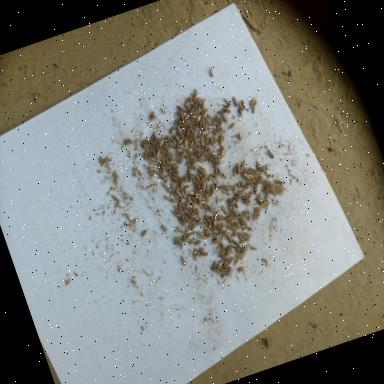pbw: (213, 223, 225, 234), (223, 220, 234, 232), (176, 214, 186, 227), (261, 191, 272, 202), (169, 172, 179, 184), (185, 160, 195, 172), (198, 176, 208, 188), (216, 148, 226, 160), (189, 214, 201, 224), (194, 190, 204, 202), (184, 166, 194, 178), (172, 170, 182, 182), (226, 228, 234, 242), (214, 260, 225, 270), (232, 237, 242, 248), (237, 160, 248, 170), (176, 178, 186, 189), (218, 146, 228, 157), (156, 137, 166, 148), (217, 232, 227, 243), (250, 183, 260, 194), (195, 141, 206, 151), (225, 255, 235, 266), (189, 204, 198, 216), (243, 170, 252, 182), (195, 127, 204, 139), (209, 260, 218, 272), (190, 247, 199, 259), (175, 199, 184, 211), (158, 170, 167, 182), (216, 134, 225, 146), (185, 126, 193, 139), (198, 134, 206, 147), (202, 215, 210, 228), (213, 244, 223, 254), (246, 171, 256, 181), (216, 116, 226, 126), (198, 194, 208, 204), (182, 112, 192, 122), (174, 103, 184, 113), (218, 264, 228, 274), (140, 138, 150, 148), (178, 150, 188, 160), (184, 215, 194, 225), (189, 221, 199, 231), (168, 140, 178, 150), (224, 265, 234, 275), (154, 148, 163, 159), (223, 244, 232, 255), (250, 210, 259, 221), (147, 164, 154, 178), (160, 222, 168, 234), (172, 202, 180, 214), (216, 166, 224, 178), (148, 150, 156, 162), (218, 239, 226, 251), (194, 178, 202, 190), (162, 180, 170, 192), (256, 194, 264, 206), (221, 204, 229, 216), (190, 152, 198, 164), (197, 166, 205, 178), (201, 120, 208, 133), (221, 258, 230, 268), (182, 101, 192, 110), (186, 172, 195, 182), (164, 165, 173, 175), (147, 134, 156, 144), (165, 132, 174, 142), (208, 66, 216, 77), (159, 106, 167, 117), (209, 238, 220, 246), (180, 208, 188, 219), (152, 130, 160, 141), (187, 206, 195, 217), (184, 208, 192, 219), (175, 141, 183, 152), (180, 126, 188, 137), (267, 148, 275, 159), (201, 221, 209, 232), (197, 187, 205, 198), (235, 246, 246, 254), (196, 198, 204, 209), (196, 97, 204, 108), (172, 119, 180, 130), (182, 137, 190, 148), (245, 178, 256, 186), (234, 163, 242, 174), (170, 180, 176, 194), (191, 194, 198, 206), (177, 238, 184, 250), (175, 188, 182, 200), (231, 95, 238, 107), (244, 223, 253, 232), (232, 227, 240, 237), (231, 166, 239, 176), (236, 131, 244, 141), (176, 225, 184, 235), (188, 125, 196, 135), (208, 182, 216, 192), (182, 96, 192, 104), (148, 158, 158, 166), (160, 149, 168, 159), (138, 138, 148, 146), (222, 230, 230, 240), (221, 112, 229, 122), (248, 96, 256, 106), (172, 192, 180, 202), (200, 182, 208, 192), (180, 176, 190, 184), (187, 222, 195, 232), (138, 229, 148, 237), (170, 164, 178, 174), (203, 148, 213, 156), (180, 231, 188, 241), (206, 172, 214, 182), (230, 204, 238, 214), (191, 96, 201, 104), (222, 106, 232, 114), (202, 121, 210, 131), (228, 198, 238, 206), (225, 184, 235, 192), (202, 109, 210, 119), (195, 173, 202, 184), (181, 190, 188, 201), (198, 232, 207, 240), (171, 162, 180, 170), (202, 154, 211, 162), (168, 125, 176, 134), (160, 154, 166, 166), (242, 230, 251, 238), (181, 200, 189, 209), (180, 254, 186, 266), (156, 162, 162, 174), (174, 148, 180, 160), (180, 118, 189, 126), (176, 157, 185, 165), (238, 100, 244, 112), (219, 270, 228, 278), (192, 178, 198, 190), (174, 180, 182, 189), (165, 156, 171, 168), (188, 140, 196, 149), (188, 121, 196, 130), (275, 177, 283, 186), (240, 194, 250, 201), (212, 212, 219, 222), (244, 182, 254, 189), (216, 108, 226, 115), (171, 208, 178, 218), (170, 197, 180, 204), (176, 188, 183, 198), (196, 230, 206, 237), (184, 156, 191, 166), (214, 194, 221, 204), (240, 220, 246, 231), (158, 160, 164, 171), (178, 129, 184, 140), (238, 106, 244, 117), (240, 99, 246, 110), (180, 213, 186, 224), (202, 202, 208, 213), (230, 244, 236, 255), (197, 246, 205, 254), (200, 250, 208, 258), (232, 258, 240, 266), (233, 214, 241, 222), (190, 102, 198, 110), (196, 114, 204, 122), (213, 180, 221, 188), (214, 124, 222, 132), (148, 115, 157, 122), (147, 111, 156, 118), (172, 235, 181, 242), (242, 209, 251, 216), (227, 122, 236, 129), (250, 104, 257, 113), (196, 218, 205, 225), (153, 167, 160, 176), (181, 184, 190, 191), (224, 97, 231, 106), (177, 118, 183, 128), (218, 184, 228, 190), (210, 216, 216, 226), (240, 230, 246, 240), (242, 198, 252, 204), (204, 134, 210, 144), (196, 208, 202, 218), (186, 194, 192, 204), (175, 134, 181, 144), (196, 105, 202, 115), (222, 170, 228, 180), (188, 237, 196, 244), (221, 189, 229, 196), (164, 194, 172, 201), (188, 116, 196, 123), (154, 144, 161, 152), (190, 113, 198, 120), (234, 209, 242, 216), (254, 205, 262, 212), (165, 136, 172, 144), (188, 188, 195, 196), (123, 137, 131, 144), (210, 231, 218, 238), (222, 102, 230, 109), (200, 110, 206, 119), (215, 222, 224, 228), (176, 112, 182, 121), (205, 192, 210, 202), (200, 98, 207, 105), (250, 243, 257, 250), (177, 138, 185, 144), (193, 240, 201, 246), (212, 120, 219, 126), (211, 236, 218, 242), (208, 222, 213, 230), (194, 196, 199, 204), (188, 230, 196, 235), (184, 108, 190, 114), (184, 236, 190, 242), (183, 123, 189, 128)
